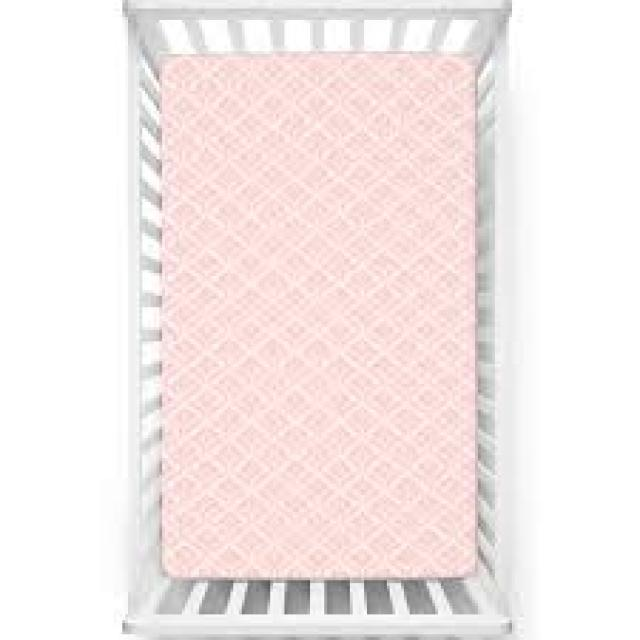crib: (117, 0, 520, 637)
